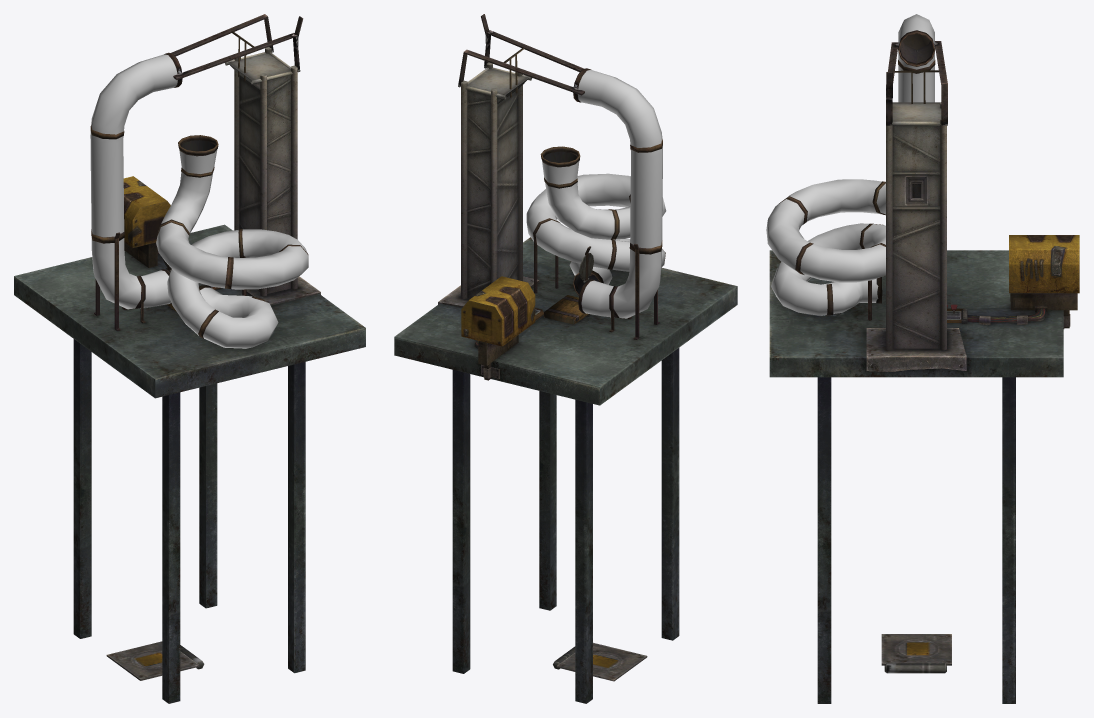
The model's file is 00_03_contraption.dae.
3 views of the same model, side by side, from view 1: azimuth 30°, elevation 25°; view 2: azimuth 150°, elevation 25°; view 3: azimuth 270°, elevation 25° (orthographic). The views are drawn at different scales.
Visible parts, largest first — view 1: contraption, contraption_pipeline, contraption_flap; view 2: contraption, contraption_pipeline, contraption_flap; view 3: contraption, contraption_pipeline, contraption_flap.
Part boxes in pixels (box(x1,y1,x2,y2)): contraption: box(14, 14, 365, 703); contraption_pipeline: box(90, 54, 308, 348); contraption_flap: box(106, 641, 204, 680); contraption: box(394, 14, 737, 703); contraption_pipeline: box(526, 70, 666, 318); contraption_flap: box(553, 642, 647, 681); contraption: box(769, 30, 1079, 703); contraption_pipeline: box(766, 14, 934, 315); contraption_flap: box(881, 634, 951, 673).
Size of the model in its own units: 0.0513 by 0.1441 by 0.0628.
